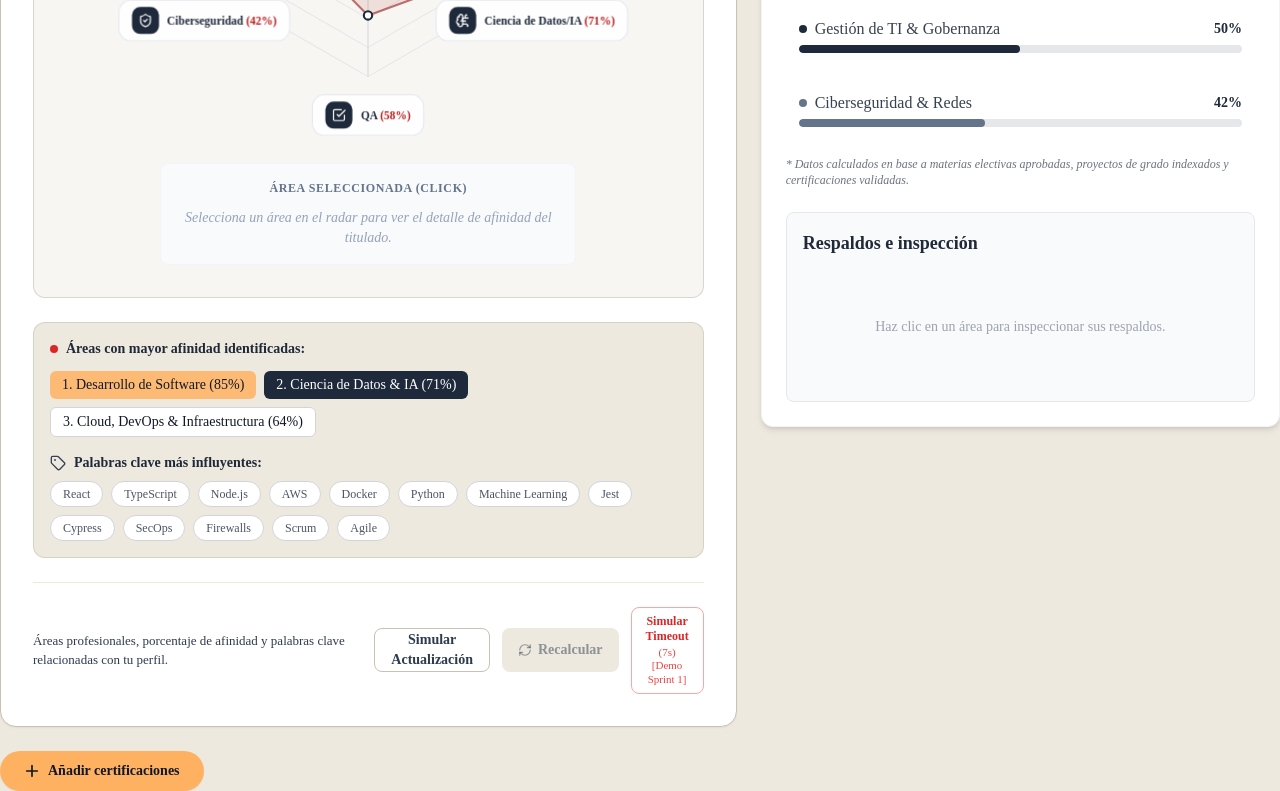
Test: GraduateAffinityView › muestra un error si falla el recálculo
(page scrolled)
Click the button with aria-label "simular actualización del radar" at (432, 650), box [374,628,490,672]
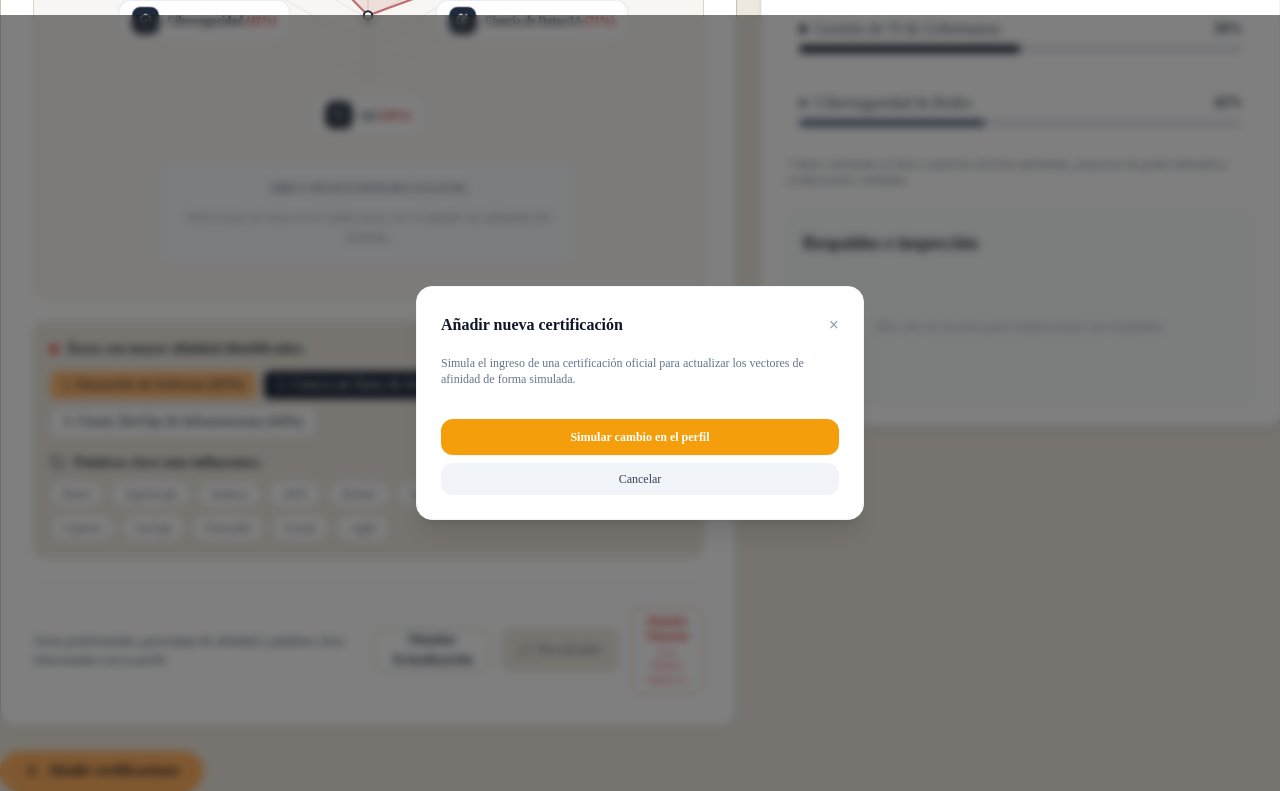
Click the button "Simular cambio en el perfil" at (640, 437), box [441,419,839,455]
(page scrolled)
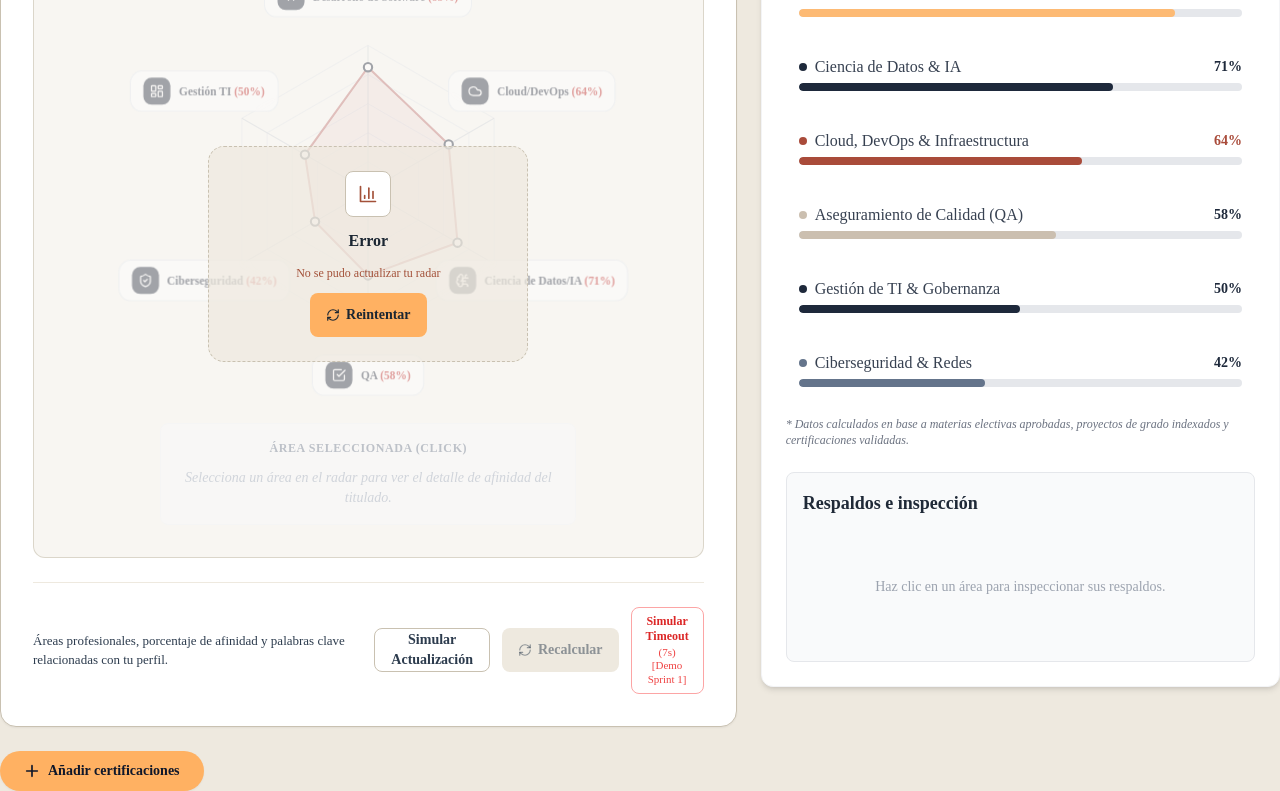
Expected: the text "No se pudo actualizar tu radar" is shown, [296,264,440,280]
Expected: the button "Reintentar" is shown, [310,292,426,336]
